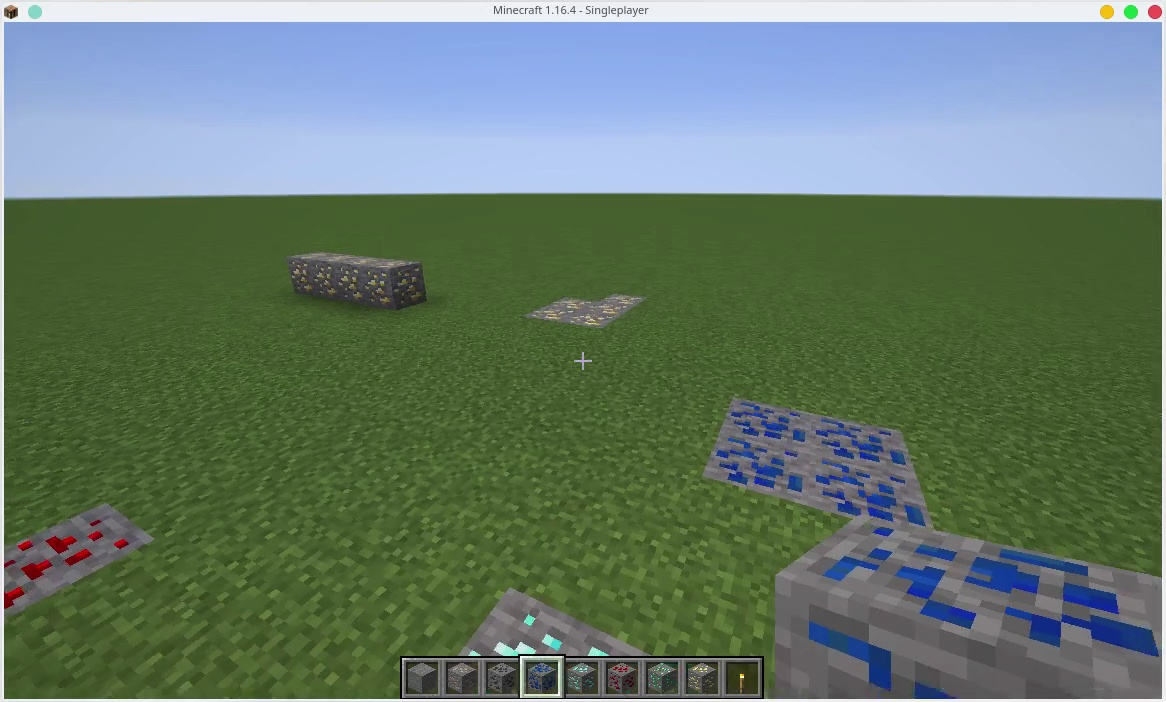gold: (370, 260, 431, 312), (284, 249, 314, 295), (338, 256, 367, 301), (315, 253, 340, 303), (687, 663, 720, 695), (574, 314, 618, 332), (535, 304, 568, 327), (586, 301, 628, 314), (548, 295, 583, 305), (606, 292, 640, 302)
